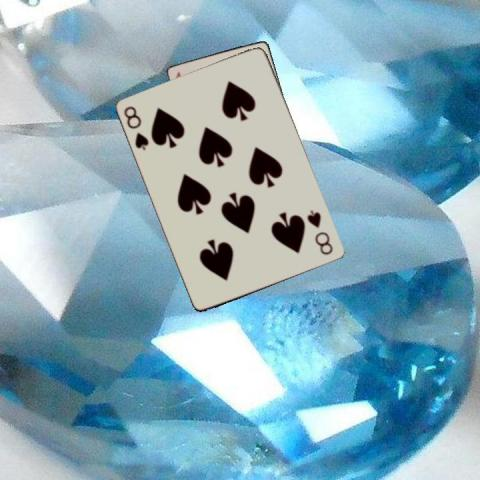8s: (304, 207, 335, 257), (120, 103, 150, 152)
